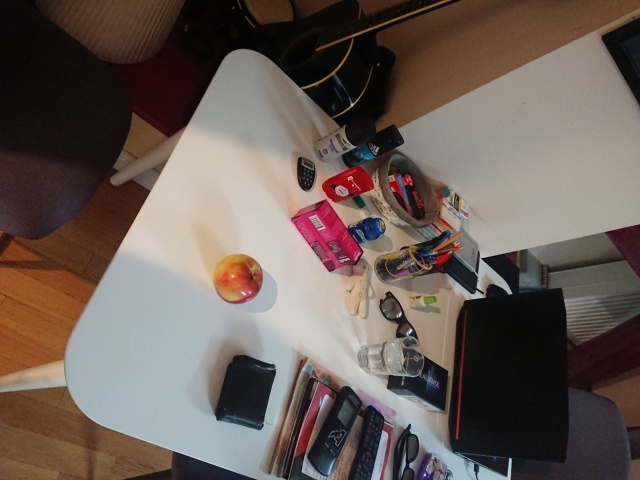Barcaffe Classic Original 225g: (289, 197, 366, 274)
